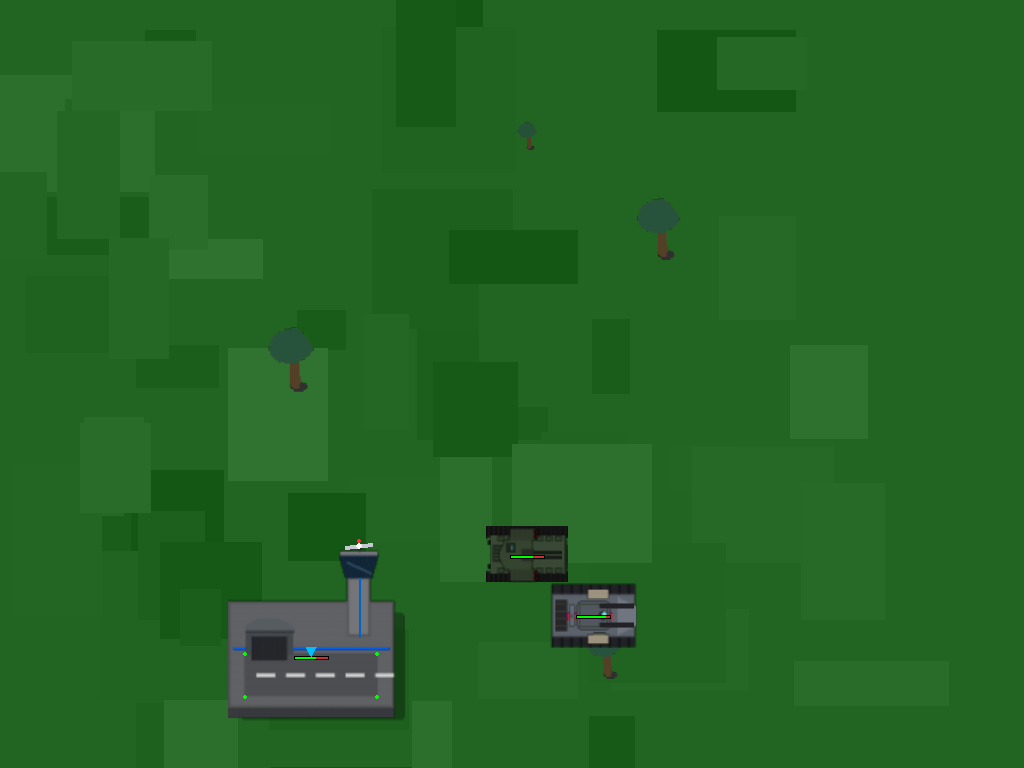APC_rus: (557, 579, 628, 650)
Airfield: (234, 578, 387, 731)
TerminatorIFV: (495, 522, 559, 586)
